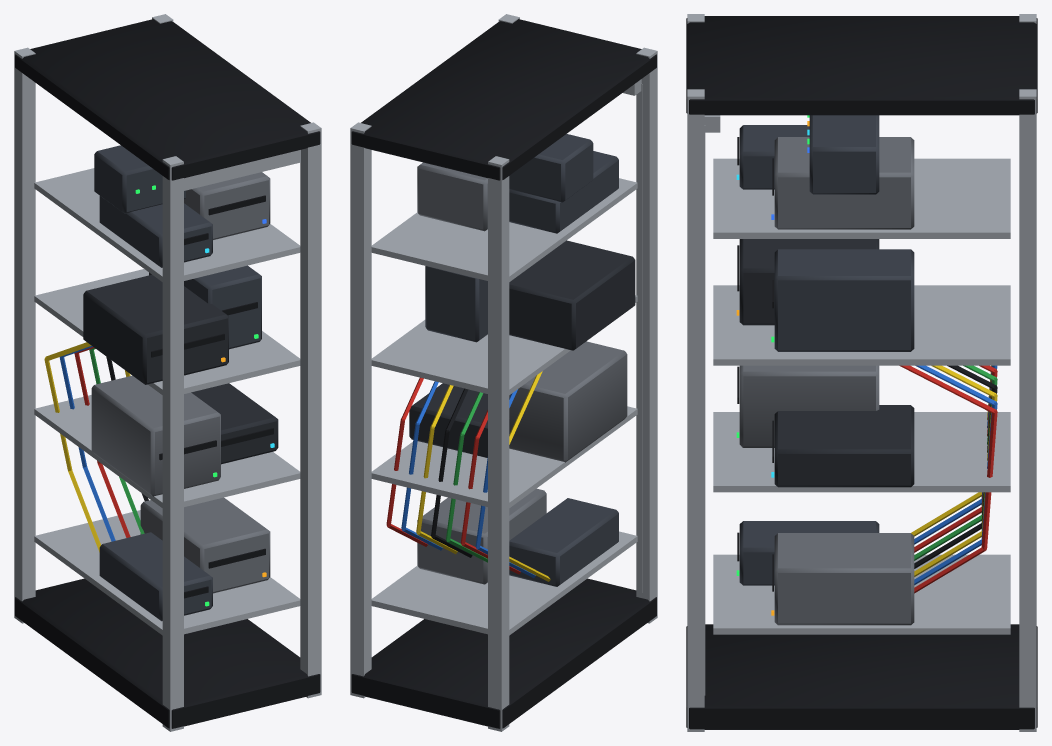
The model's file is rack_open_frame_rack.glb.
3 views of the same model, side by side, from view 1: azimuth 30°, elevation 25°; view 2: azimuth 150°, elevation 25°; view 3: azimuth 270°, elevation 25° (orthographic). The views are drawn at different scales.
Visible parts, largest first — view 1: rack_open_frame_rack; view 2: rack_open_frame_rack; view 3: rack_open_frame_rack.
Boxes of the visible parts, <box> form: rack_open_frame_rack: <box>14,14,321,731</box>; rack_open_frame_rack: <box>350,14,657,731</box>; rack_open_frame_rack: <box>686,14,1037,731</box>.
Bounding box in the file's own units: 0.573 × 2.01 × 1.01.
